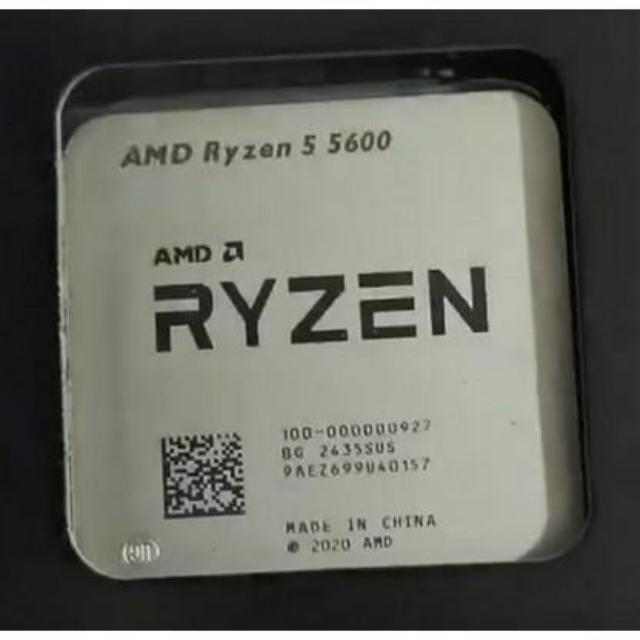CPU: (60, 87, 586, 575)
